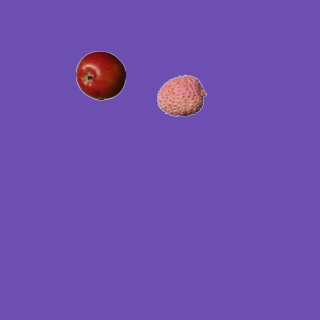Apple Braeburn: (75, 50, 125, 100)
Lychee: (156, 70, 206, 120)
